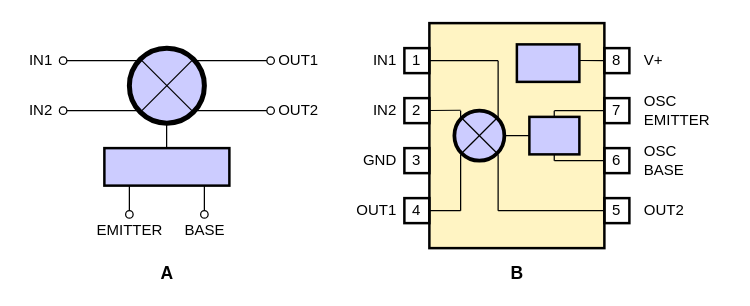
The diagram is 750 pixels wide and 306 high, and some of its shapes have lost their labels. The centre of each missing label's shape, as x and y in pixels:
OSC: point (554, 135)
OSCILLATOR: point (166, 166)
VREG: point (547, 62)
